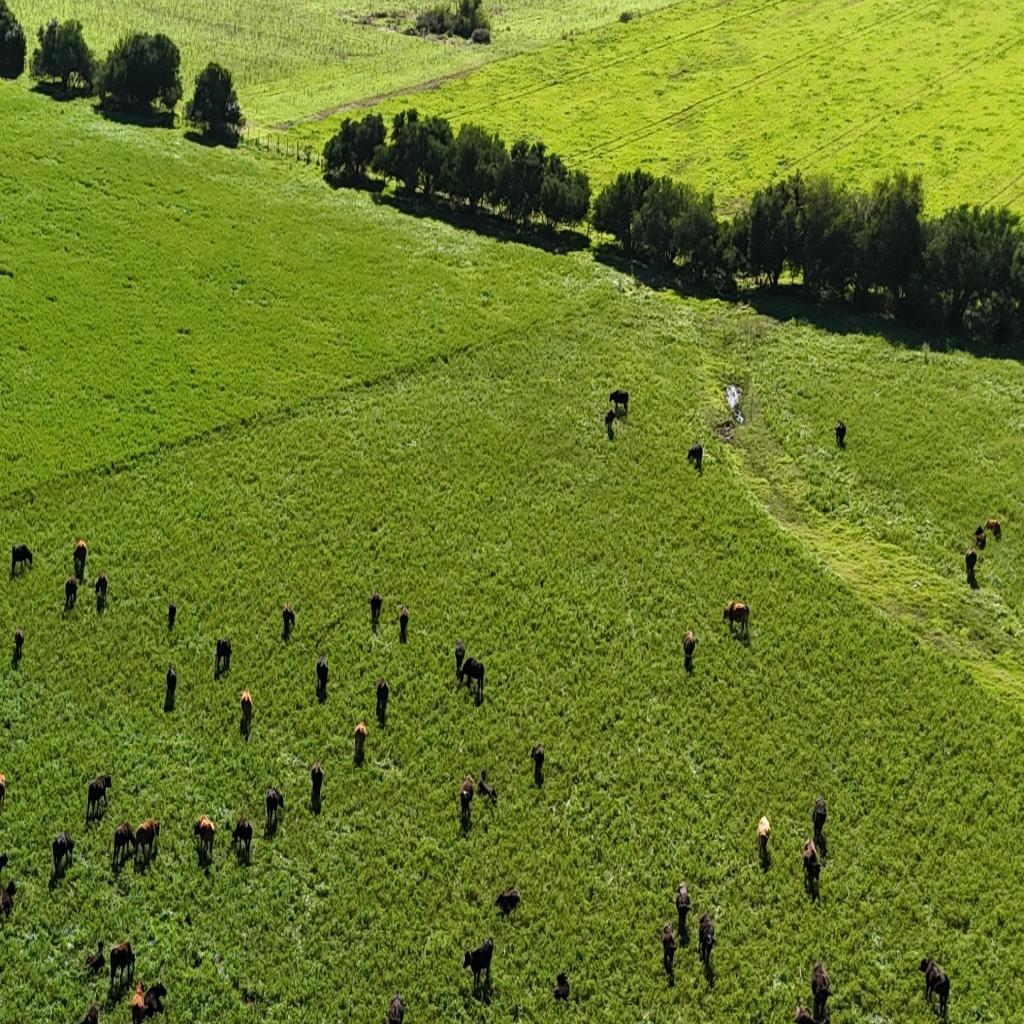cow: (920, 957, 950, 1020), (462, 937, 494, 994), (810, 957, 831, 1022), (134, 816, 160, 868), (110, 939, 136, 990), (86, 772, 113, 819), (461, 656, 485, 701), (52, 831, 75, 877), (113, 821, 135, 868), (232, 816, 254, 862), (722, 600, 750, 636), (142, 979, 168, 1017), (196, 813, 217, 860), (698, 911, 716, 965), (803, 840, 821, 890), (266, 784, 284, 834), (84, 939, 106, 977), (495, 885, 521, 917), (476, 768, 498, 804), (812, 795, 827, 845), (662, 921, 676, 974), (676, 881, 690, 933), (130, 977, 145, 1024), (11, 543, 33, 575), (310, 760, 324, 810), (757, 813, 772, 857), (460, 775, 474, 822), (215, 637, 232, 674), (240, 688, 254, 732), (73, 538, 87, 581), (0, 879, 15, 919), (531, 744, 545, 786), (354, 720, 368, 761), (376, 677, 389, 721), (388, 992, 404, 1024), (684, 627, 697, 666), (609, 389, 629, 414), (454, 638, 466, 679), (316, 654, 328, 695), (165, 662, 177, 702), (64, 576, 78, 610), (554, 972, 570, 1001), (94, 572, 108, 604), (370, 589, 382, 625), (282, 603, 295, 636), (80, 1002, 99, 1024), (688, 443, 702, 472), (965, 548, 978, 579), (985, 518, 1002, 540), (794, 1005, 814, 1023), (13, 628, 25, 658), (399, 604, 409, 637), (974, 526, 987, 550), (835, 421, 846, 448), (0, 772, 8, 808), (604, 409, 616, 432), (0, 851, 9, 879), (168, 601, 176, 631)
